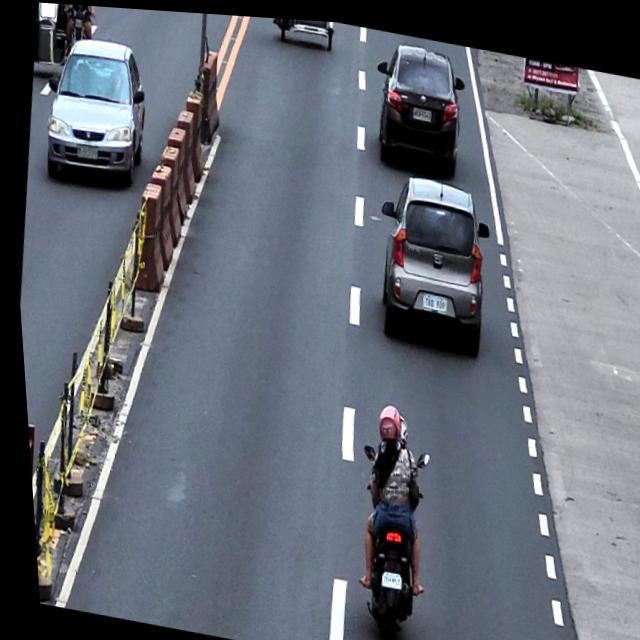Car: (361, 162, 498, 351), (33, 27, 156, 192), (363, 31, 472, 168), (269, 14, 336, 48)
License-Plate: (416, 285, 446, 308), (371, 563, 396, 586), (73, 139, 98, 161), (410, 99, 431, 117)
Motorcycle: (332, 433, 434, 640)
Tricycle: (28, 1, 104, 81)
